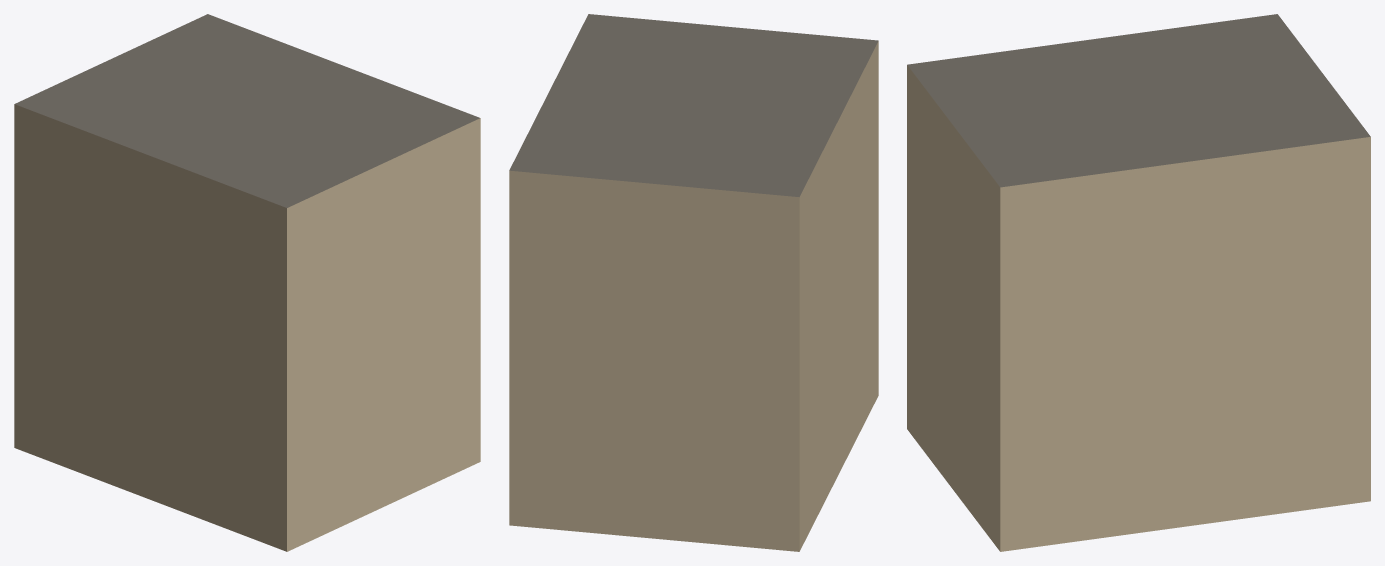
The picture shows the model from 3 angles, left to right: view 1: azimuth 30°, elevation 25°; view 2: azimuth 150°, elevation 25°; view 3: azimuth 270°, elevation 25°; orthographic projection. The views are drawn at different scales.
Parts seen in each view (by area): view 1: HP-w1233759521; view 2: HP-w1233759521; view 3: HP-w1233759521.
Boxes of the visible parts, left/top/right/bottom form: HP-w1233759521: left=14, top=14, right=480, bottom=551; HP-w1233759521: left=509, top=14, right=878, bottom=551; HP-w1233759521: left=907, top=14, right=1370, bottom=551.
Bounding box in the file's own units: 13.47 × 13.2 × 15.22.
